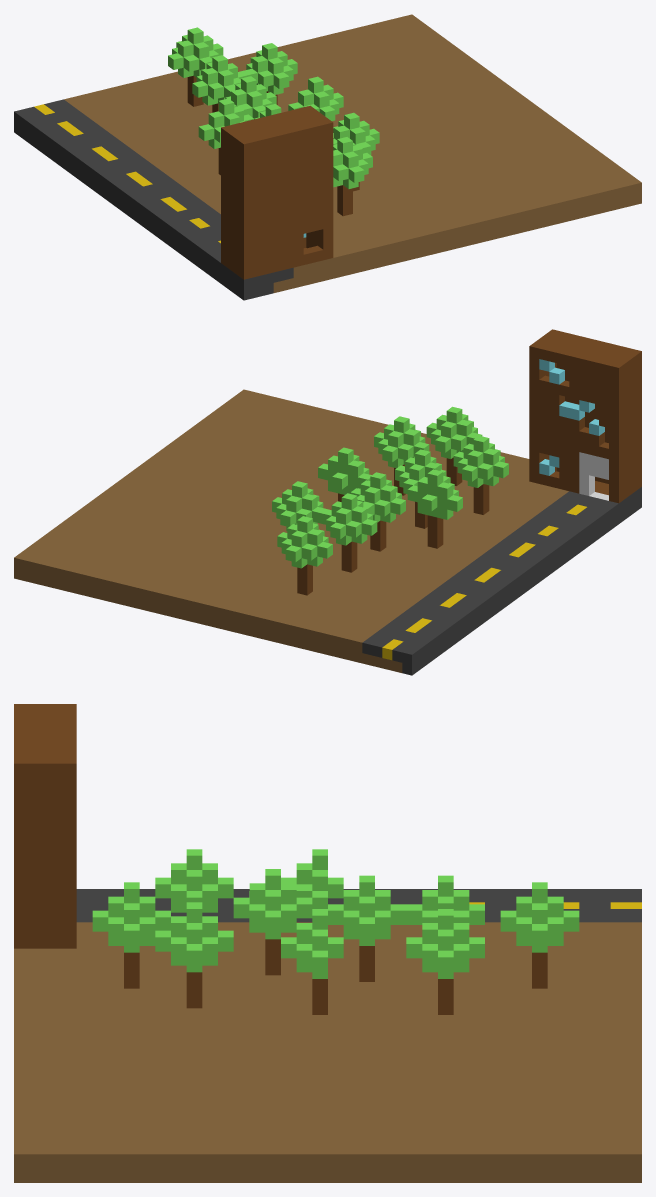
The picture shows the model from 3 angles, top to bottom: view 1: azimuth 30°, elevation 25°; view 2: azimuth 150°, elevation 25°; view 3: azimuth 270°, elevation 25°; orthographic projection. The views are drawn at different scales.
Visible parts, largest first — view 1: Untitled; view 2: Untitled; view 3: Untitled.
Boxes of the visible parts, <box> form: Untitled: <box>14,14,641,300</box>; Untitled: <box>14,329,641,675</box>; Untitled: <box>14,704,641,1182</box>.
Size of the model in its own units: 4 by 1.5 by 4.
